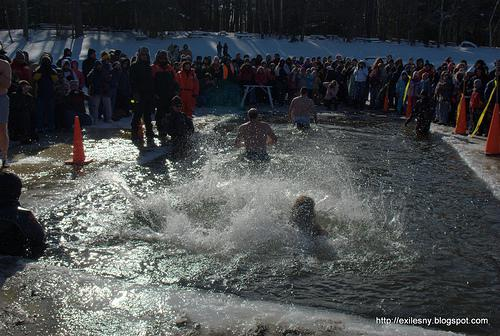swimmer: (232, 107, 273, 162), (287, 193, 326, 234), (287, 86, 320, 132)
